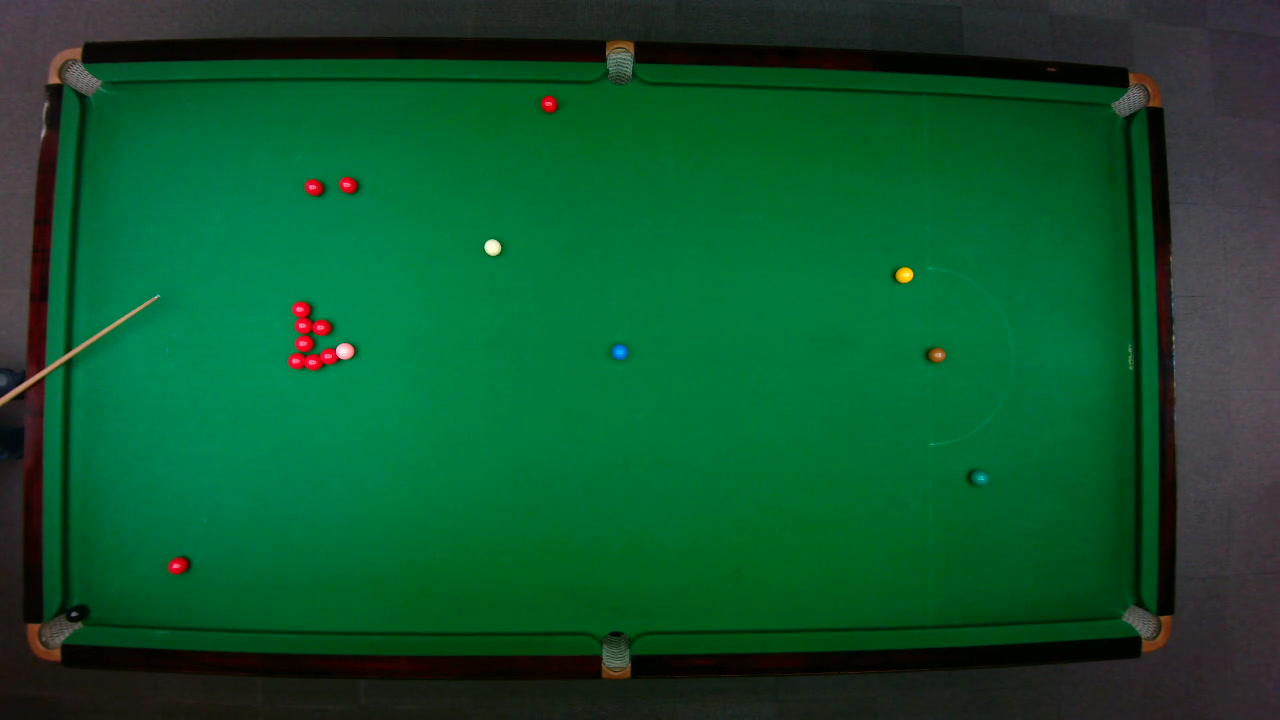bag: (25, 610, 83, 662), (45, 46, 102, 96), (1119, 603, 1172, 652), (1108, 71, 1161, 118), (600, 629, 630, 680), (605, 38, 633, 85)
black: (65, 605, 85, 622)
blue: (610, 342, 628, 360)
brown: (926, 346, 946, 362)
cue: (0, 293, 160, 404)
green: (969, 468, 989, 486)
pink: (334, 341, 355, 360)
red: (165, 555, 189, 574), (302, 177, 324, 196), (302, 352, 324, 370), (337, 175, 358, 193), (310, 317, 331, 335), (318, 346, 337, 365), (293, 334, 313, 352), (290, 300, 311, 317), (286, 351, 305, 369), (539, 94, 557, 113), (292, 317, 312, 334)
white: (482, 237, 502, 256)
yellow: (893, 265, 914, 283)
zone: (927, 265, 1014, 445)
